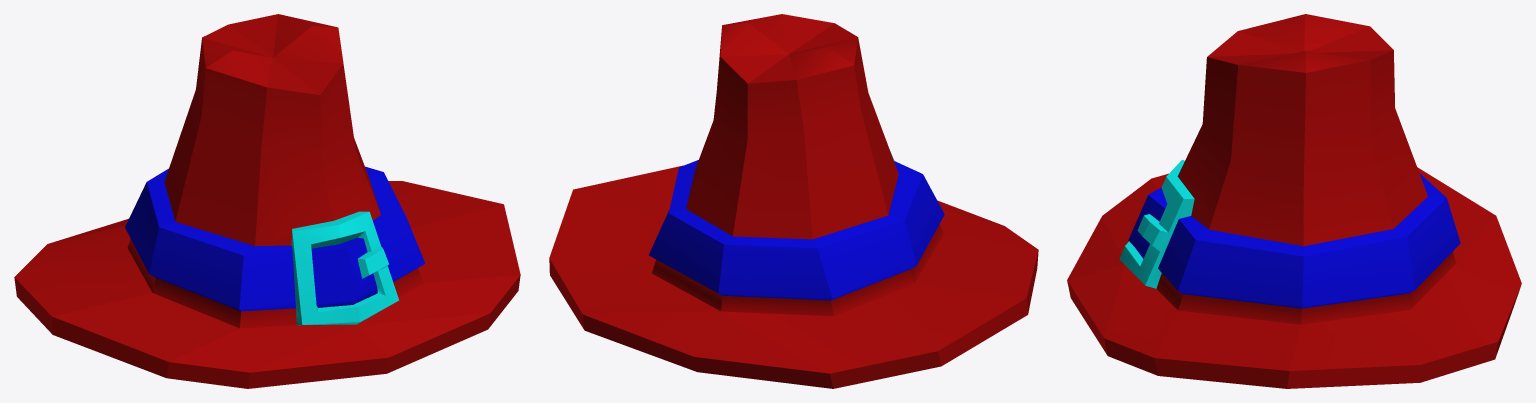
Rendered from Chr_HeadCoverings_BaseHair_Static_09.fbx.
The picture shows the model from 3 angles, left to right: view 1: azimuth 30°, elevation 25°; view 2: azimuth 150°, elevation 25°; view 3: azimuth 270°, elevation 25°; orthographic projection. The views are drawn at different scales.
Parts seen in each view (by area): view 1: Chr_HeadCoverings_Base_Hair_09; view 2: Chr_HeadCoverings_Base_Hair_09; view 3: Chr_HeadCoverings_Base_Hair_09.
Boxes of the visible parts, <box> form: Chr_HeadCoverings_Base_Hair_09: <box>14,14,520,388</box>; Chr_HeadCoverings_Base_Hair_09: <box>549,14,1038,388</box>; Chr_HeadCoverings_Base_Hair_09: <box>1067,14,1521,388</box>.
Size of the model in its own units: 53.74 by 29.93 by 44.77.
